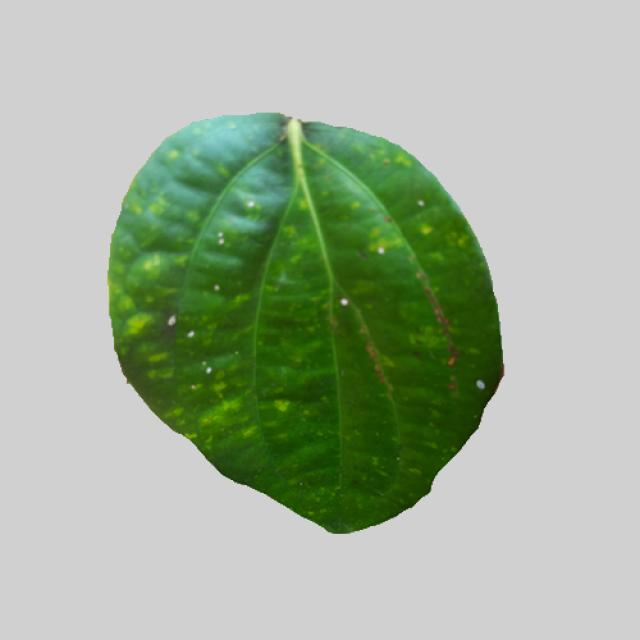yellow-mottle-virus: (93, 115, 516, 534)
